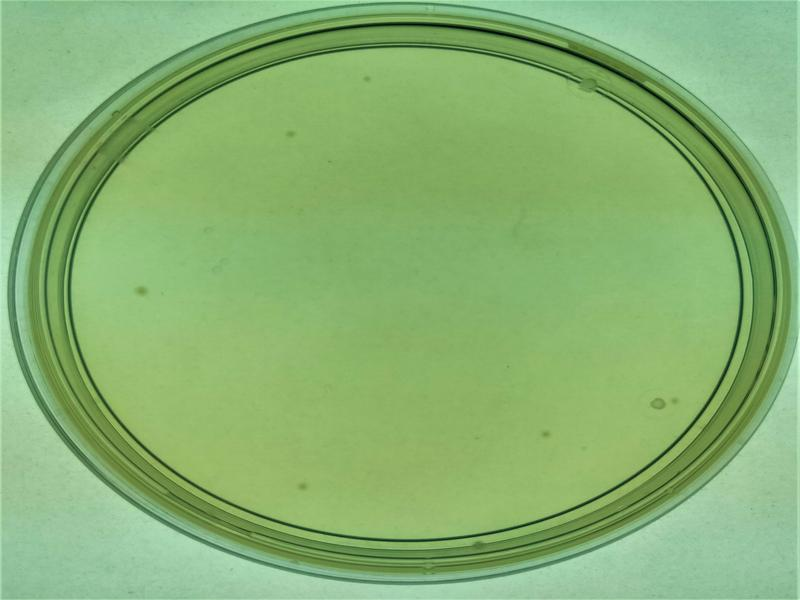colony: (123, 277, 157, 305), (289, 474, 322, 502), (348, 67, 384, 92), (270, 118, 302, 146), (533, 422, 564, 448)
